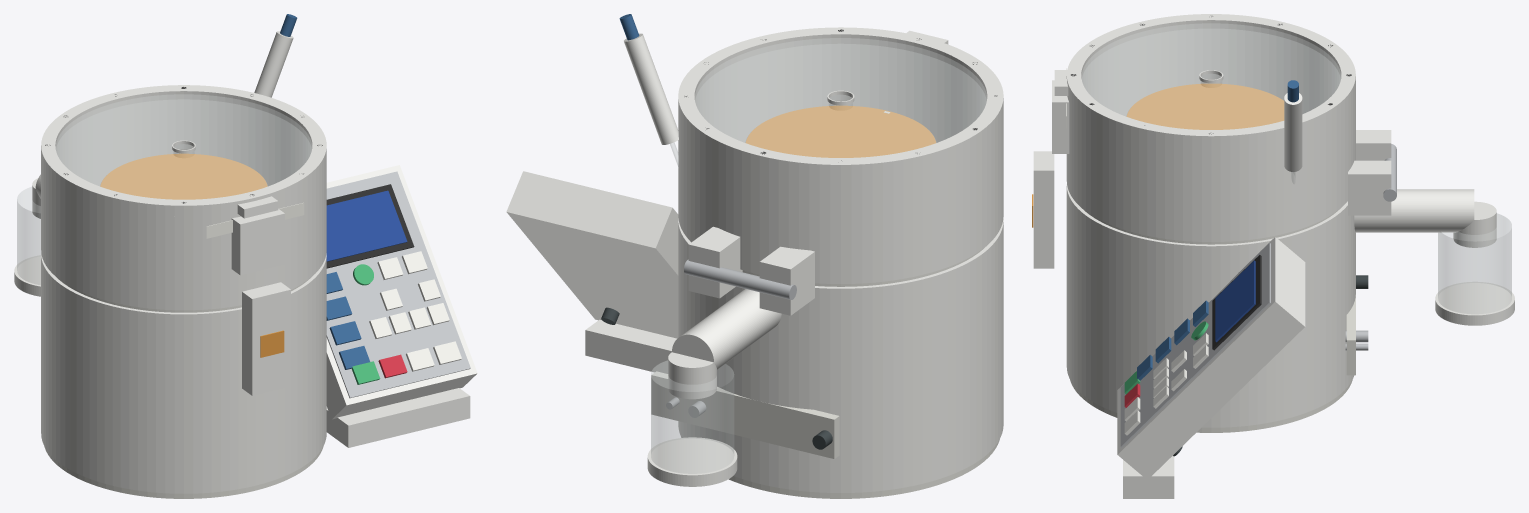
Rendered from laurell.glb.
3 renders of one model, left to right at view 1: azimuth 30°, elevation 25°; view 2: azimuth 150°, elevation 25°; view 3: azimuth 270°, elevation 25°, orthographic. The views are drawn at different scales.
Visible parts, largest first — view 1: polypropylene_base, moving_upper_lid_skirt, clear_lid_19mm_opening, controller_face, lid_ring, resist_film_visual, controller_housing, latch_handle, controller_support_inferred, lcd_screen, upper_flange, latch_mount (+11 smaller); view 2: polypropylene_base, moving_upper_lid_skirt, clear_lid_19mm_opening, controller_housing, lid_ring, drain_waste_cup, resist_film_visual, utility_plate, upper_flange, rear_drain_port_38mm, waste_cup_mount, controller_support_inferred (+7 smaller); view 3: moving_upper_lid_skirt, polypropylene_base, clear_lid_19mm_opening, controller_housing, lid_ring, drain_waste_cup, resist_film_visual, rear_drain_port_38mm, controller_face, upper_flange, waste_cup_mount, latch_handle (+11 smaller).
Part boxes in pixels (x1,y1,x2,y2): polypropylene_base: (41, 253, 326, 493); moving_upper_lid_skirt: (41, 102, 326, 310); clear_lid_19mm_opening: (56, 94, 311, 199); controller_face: (326, 171, 470, 398); lid_ring: (41, 85, 326, 218); resist_film_visual: (100, 153, 267, 199); controller_housing: (326, 165, 477, 419); latch_handle: (242, 282, 290, 395); controller_support_inferred: (326, 388, 470, 447); lcd_screen: (326, 190, 407, 261); upper_flange: (41, 100, 326, 226); latch_mount: (231, 209, 284, 275); polypropylene_base: (678, 218, 1003, 492); moving_upper_lid_skirt: (678, 46, 1003, 283); clear_lid_19mm_opening: (695, 38, 986, 157); controller_housing: (506, 171, 678, 338); lid_ring: (678, 27, 1003, 179); drain_waste_cup: (651, 360, 733, 473); resist_film_visual: (745, 105, 935, 157); utility_plate: (651, 371, 839, 458); upper_flange: (678, 44, 1003, 188); rear_drain_port_38mm: (672, 289, 781, 369); waste_cup_mount: (647, 437, 737, 486); controller_support_inferred: (585, 319, 676, 373); moving_upper_lid_skirt: (1066, 31, 1355, 241); polypropylene_base: (1066, 184, 1355, 427); clear_lid_19mm_opening: (1081, 23, 1340, 129); controller_housing: (1117, 237, 1305, 479); lid_ring: (1066, 14, 1355, 149); drain_waste_cup: (1438, 213, 1511, 313); resist_film_visual: (1126, 83, 1284, 129); rear_drain_port_38mm: (1354, 189, 1474, 232); controller_face: (1120, 242, 1270, 447); upper_flange: (1068, 29, 1354, 157); waste_cup_mount: (1435, 281, 1514, 325); latch_handle: (1033, 151, 1054, 268).
Size of the model in its own units: 0.381 by 0.3587 by 0.4242.
